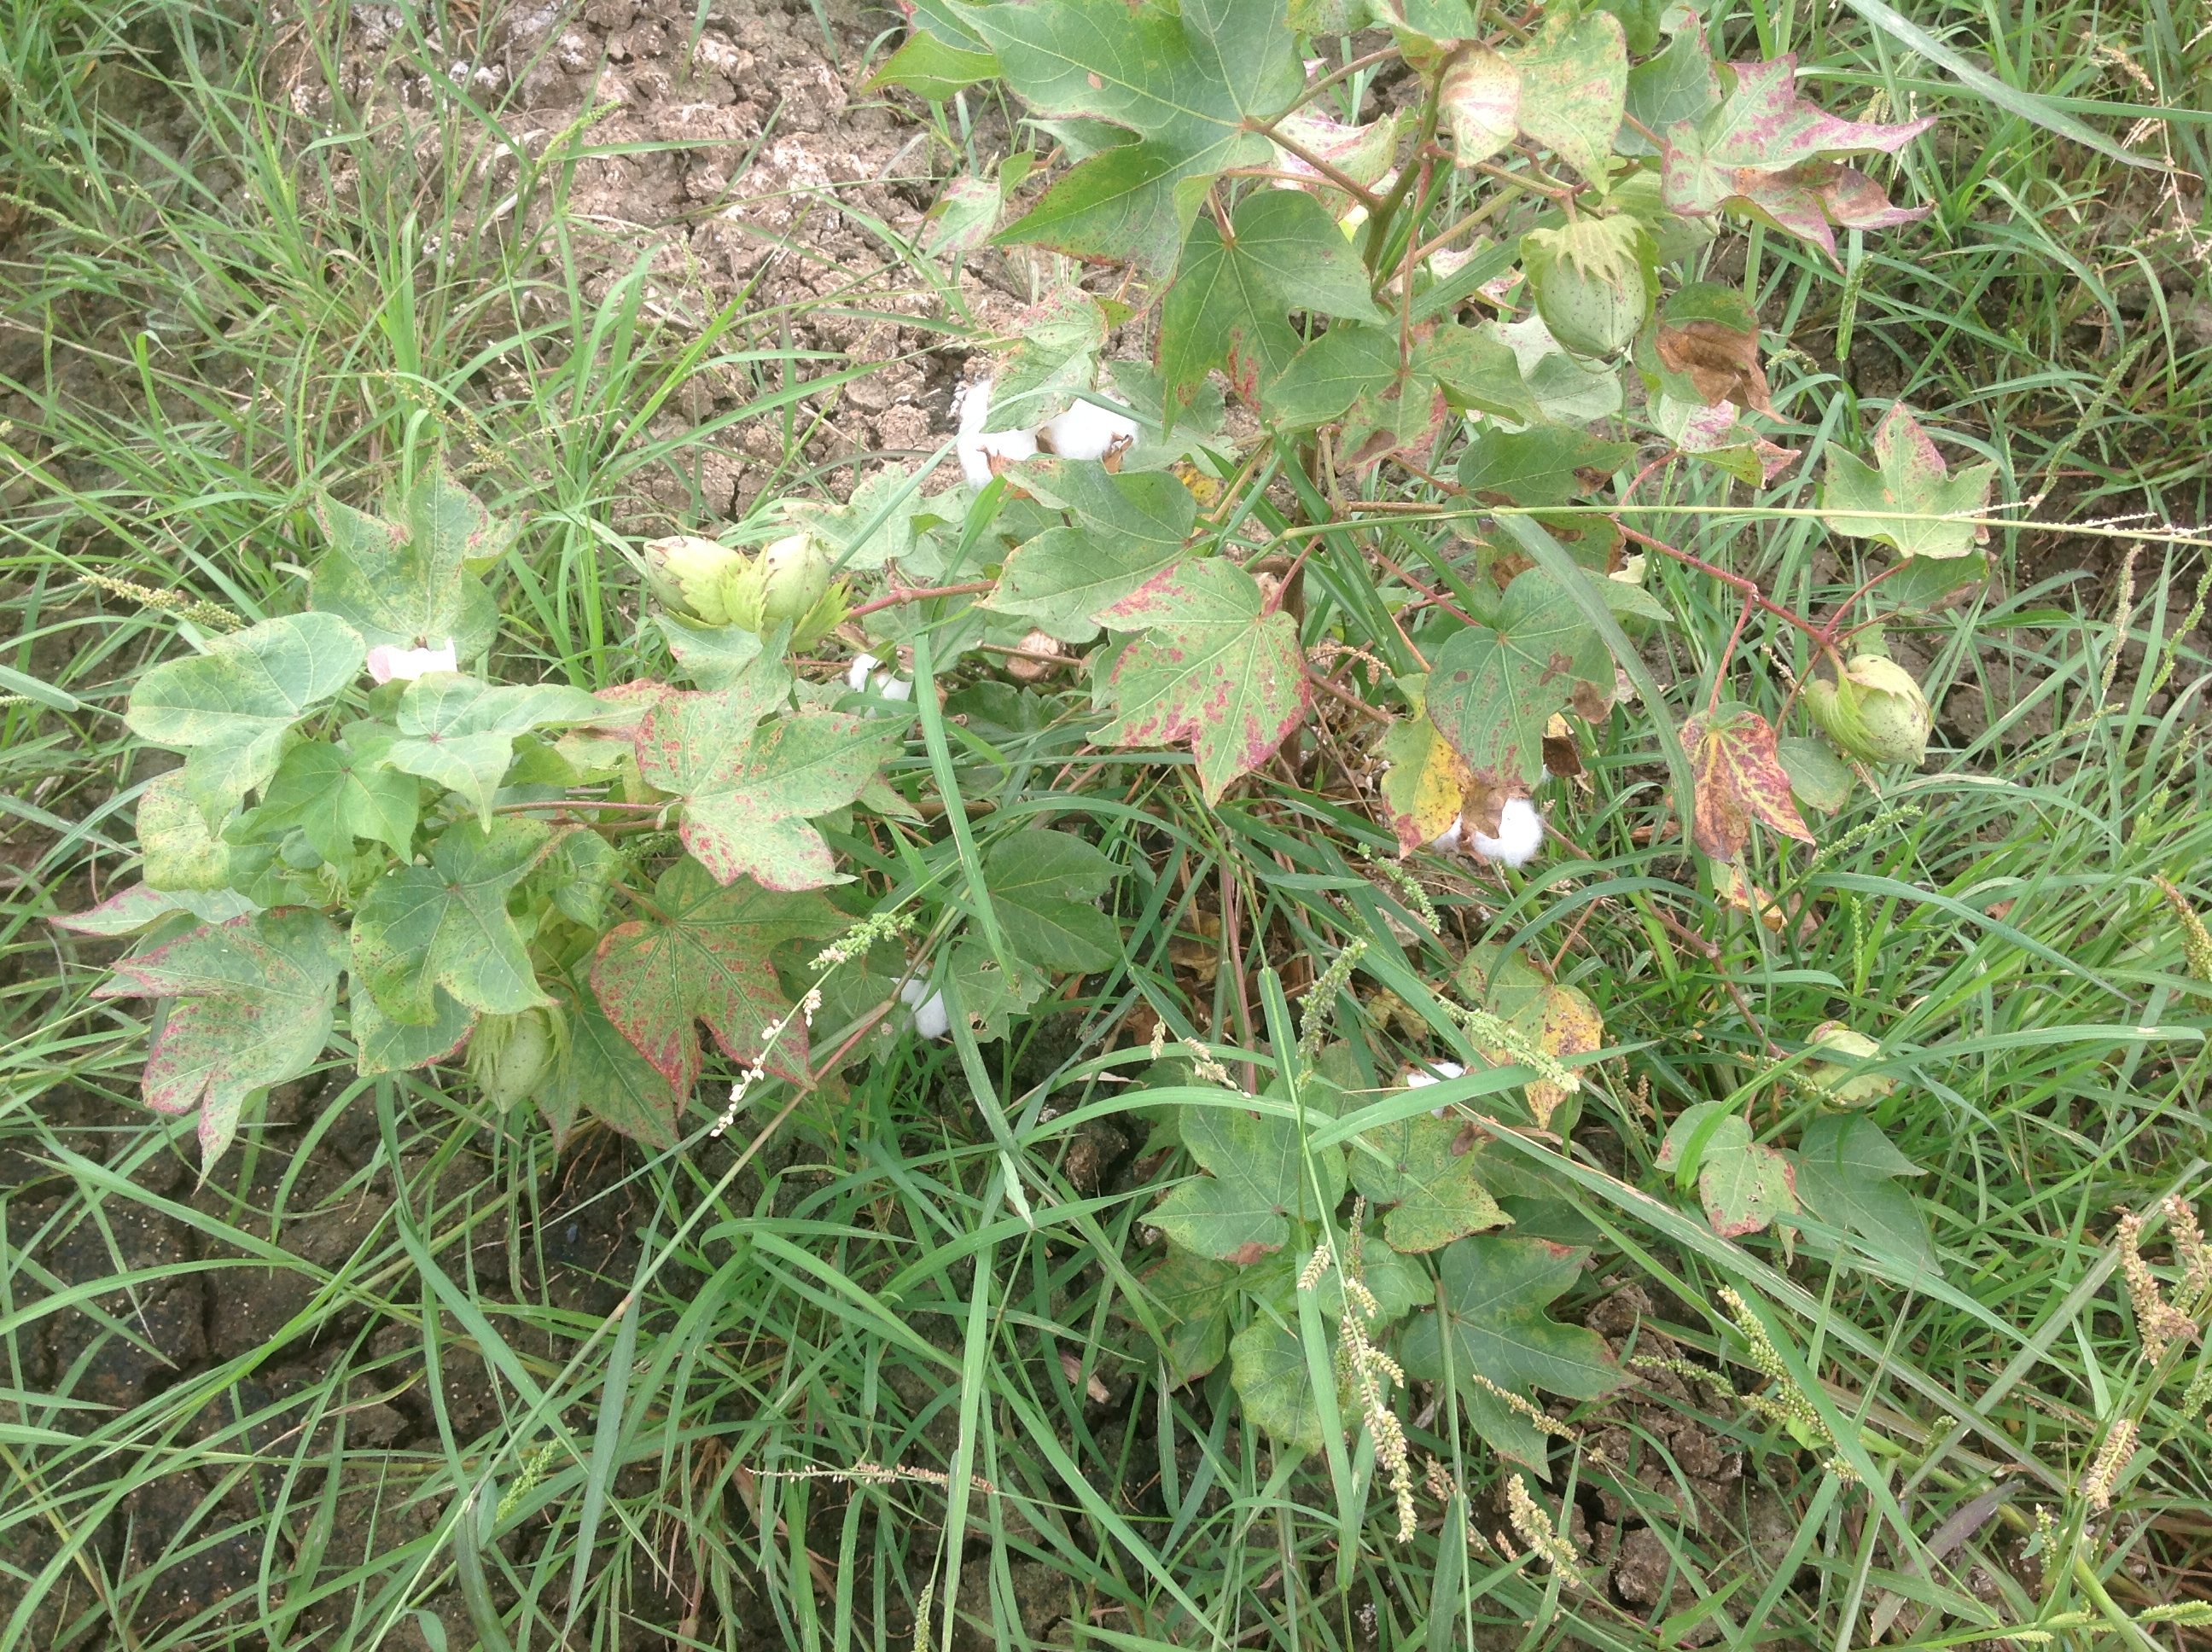cotton: (1036, 361, 1154, 491), (1424, 751, 1554, 868), (873, 947, 991, 1065)
